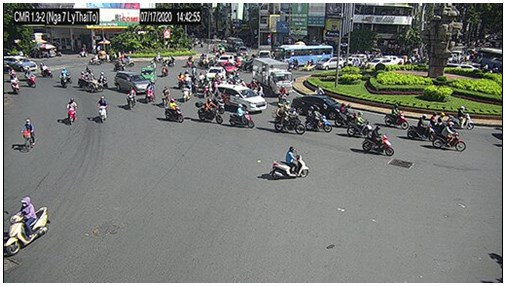xe_buyt: (278, 44, 333, 65), (476, 46, 503, 70)
xe_dap: (20, 118, 38, 155)
xe_hoi: (216, 82, 267, 112), (113, 70, 152, 95), (3, 53, 36, 71), (316, 56, 345, 69), (367, 55, 396, 68), (204, 65, 226, 82), (218, 61, 238, 75), (217, 53, 234, 65)
xe_may: (4, 195, 47, 256), (269, 145, 308, 180), (431, 120, 466, 153), (273, 100, 306, 134), (361, 125, 395, 156), (303, 103, 332, 133), (407, 112, 437, 141), (345, 112, 376, 136), (382, 101, 408, 128), (195, 98, 223, 123), (228, 103, 255, 128), (449, 105, 476, 129), (427, 109, 454, 133), (333, 103, 360, 127), (164, 97, 184, 123), (84, 71, 102, 93), (73, 67, 91, 89), (66, 96, 78, 127), (144, 80, 156, 104), (97, 96, 107, 124), (110, 56, 126, 72), (127, 85, 137, 110), (214, 90, 224, 115), (24, 68, 36, 88), (40, 61, 53, 78), (147, 51, 164, 64), (173, 69, 185, 87), (9, 74, 19, 95), (86, 53, 102, 66), (300, 59, 316, 72), (277, 85, 287, 105), (160, 84, 169, 106), (182, 81, 191, 100), (162, 54, 176, 66), (289, 57, 300, 72), (159, 61, 168, 78), (59, 70, 67, 88)
